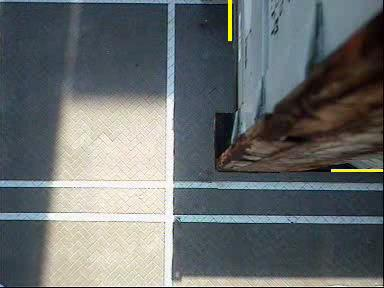groundmarker_2: (95, 70, 162, 107), (97, 231, 164, 268)
